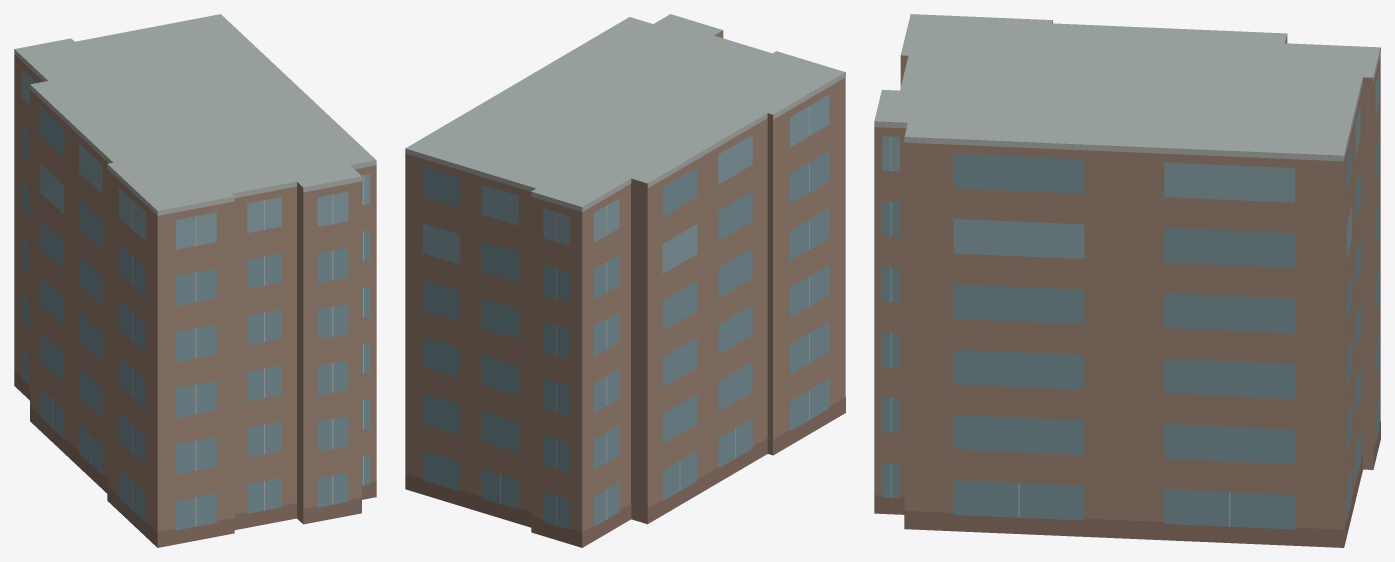
File: survey-upis-32606886.glb
3 renders of one model, left to right at view 1: azimuth 30°, elevation 25°; view 2: azimuth 150°, elevation 25°; view 3: azimuth 270°, elevation 25°, orthographic. The views are drawn at different scales.
Visible parts, largest first — view 1: survey-upis-32606886.tmp; view 2: survey-upis-32606886.tmp; view 3: survey-upis-32606886.tmp.
Part boxes in pixels (box(x1,y1,x2,y2)): survey-upis-32606886.tmp: box(14, 14, 376, 547); survey-upis-32606886.tmp: box(405, 14, 845, 547); survey-upis-32606886.tmp: box(874, 14, 1380, 547).
Size of the model in its own units: 12.95 by 16.7 by 19.55.
